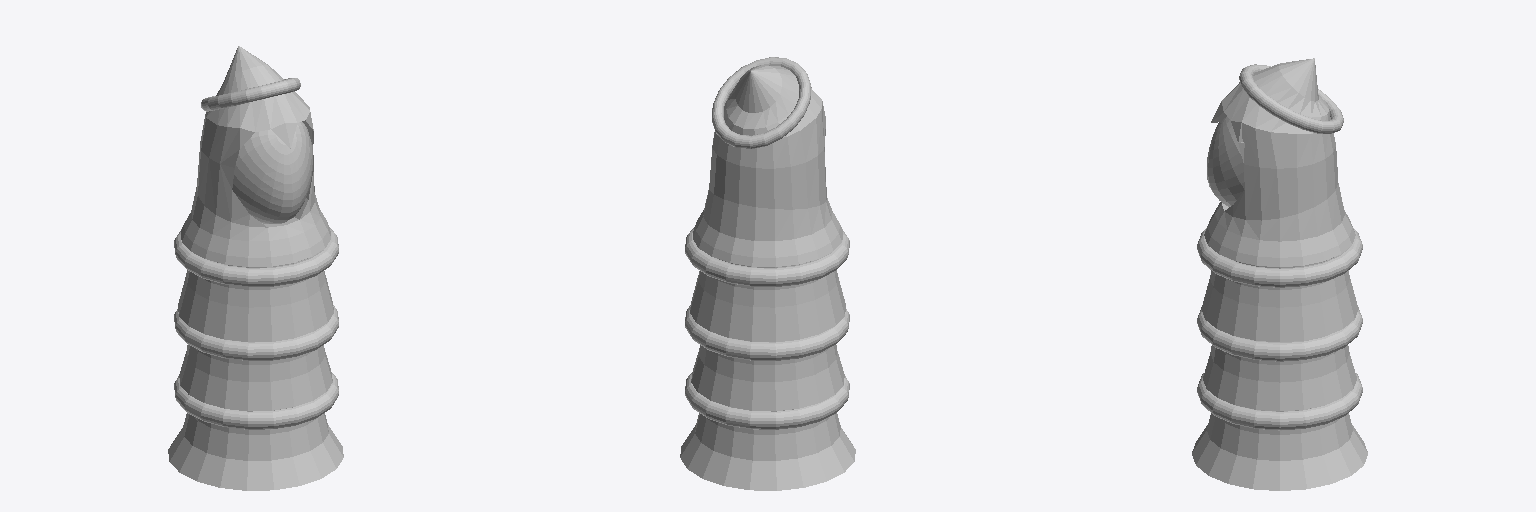
The model's file is turretEnemy.obj.
The picture shows the model from 3 angles: view 1: azimuth 30°, elevation 25°; view 2: azimuth 150°, elevation 25°; view 3: azimuth 270°, elevation 25°; orthographic projection.
Visible parts, largest first — view 1: _Oombra:polySurface1; view 2: _Oombra:polySurface1; view 3: _Oombra:polySurface1.
Part boxes in pixels (bbox=[...]): _Oombra:polySurface1: bbox=[168, 46, 343, 490]; _Oombra:polySurface1: bbox=[680, 57, 855, 490]; _Oombra:polySurface1: bbox=[1192, 58, 1367, 490].
Size of the model in its own units: 0.9731 by 2.4 by 0.9731.